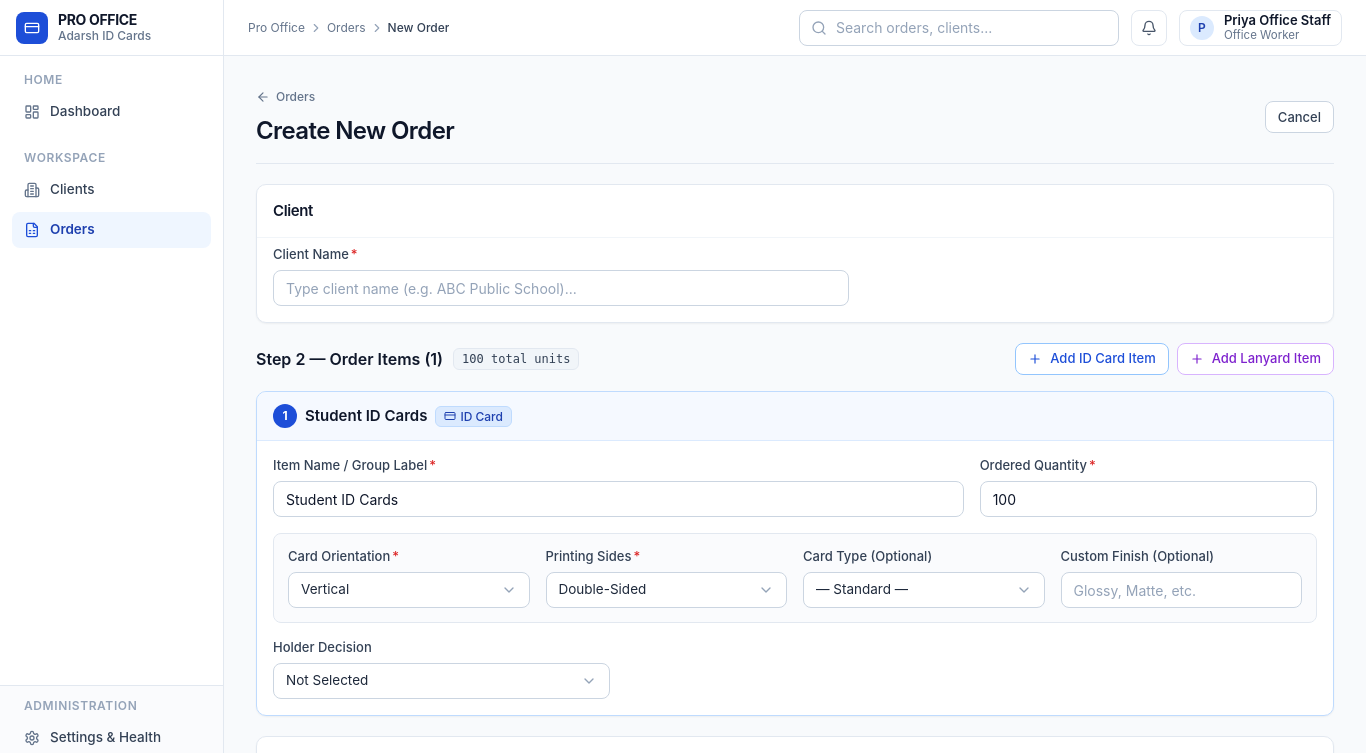
Test: Phase 2 Client & Order Creation and Replacement Workflows › supports inline client creation, multiple ID card & lanyard items, and dynamic form fields
Expected: the heading "Create New Order" is shown, x1=256 y1=115 x2=454 y2=147
Type a new client name and verify inline auto-create option appears
Type "ABC Public School" into the field labelled "Client Name*". click: (561, 288)
box: x1=273 y1=270 x2=849 y2=306
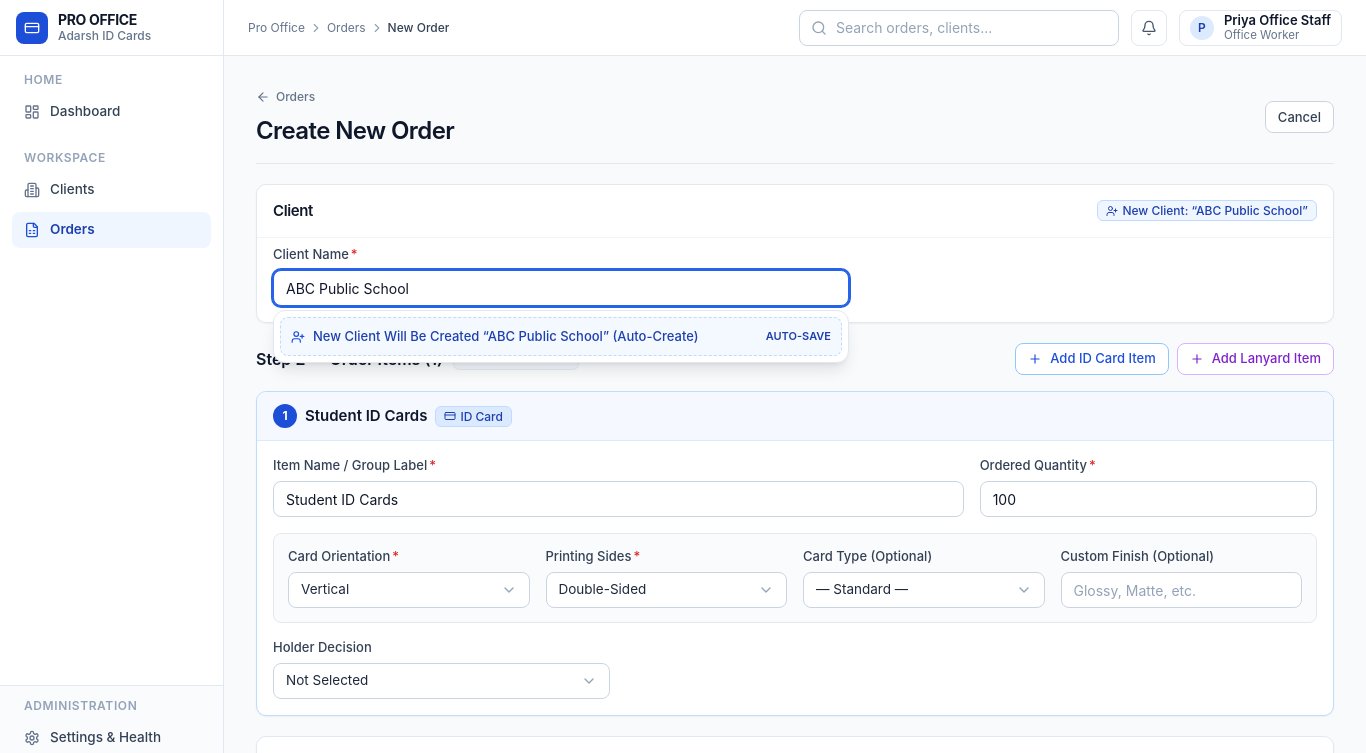
Result: the text "New Client Will Be Created “ABC Public School” (Auto-Create)" is shown at x1=291 y1=326 x2=698 y2=347
Add a second ID card item and a Lanyard item
Click the button with test id "add-card-item-btn". click: click(1092, 359)
box: x1=1015 y1=343 x2=1169 y2=375
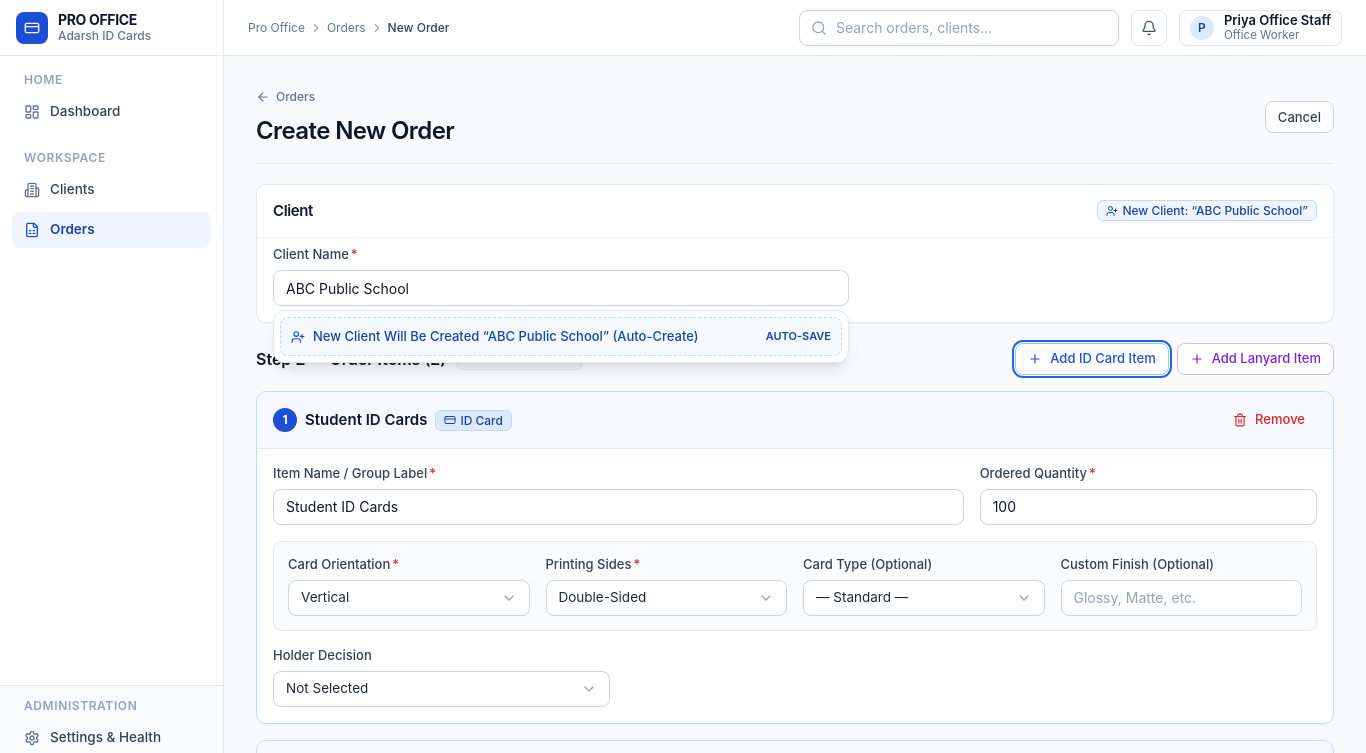
Click the button with test id "add-lanyard-item-btn". click: click(1255, 359)
box: x1=1177 y1=343 x2=1334 y2=375
(page scrolled)
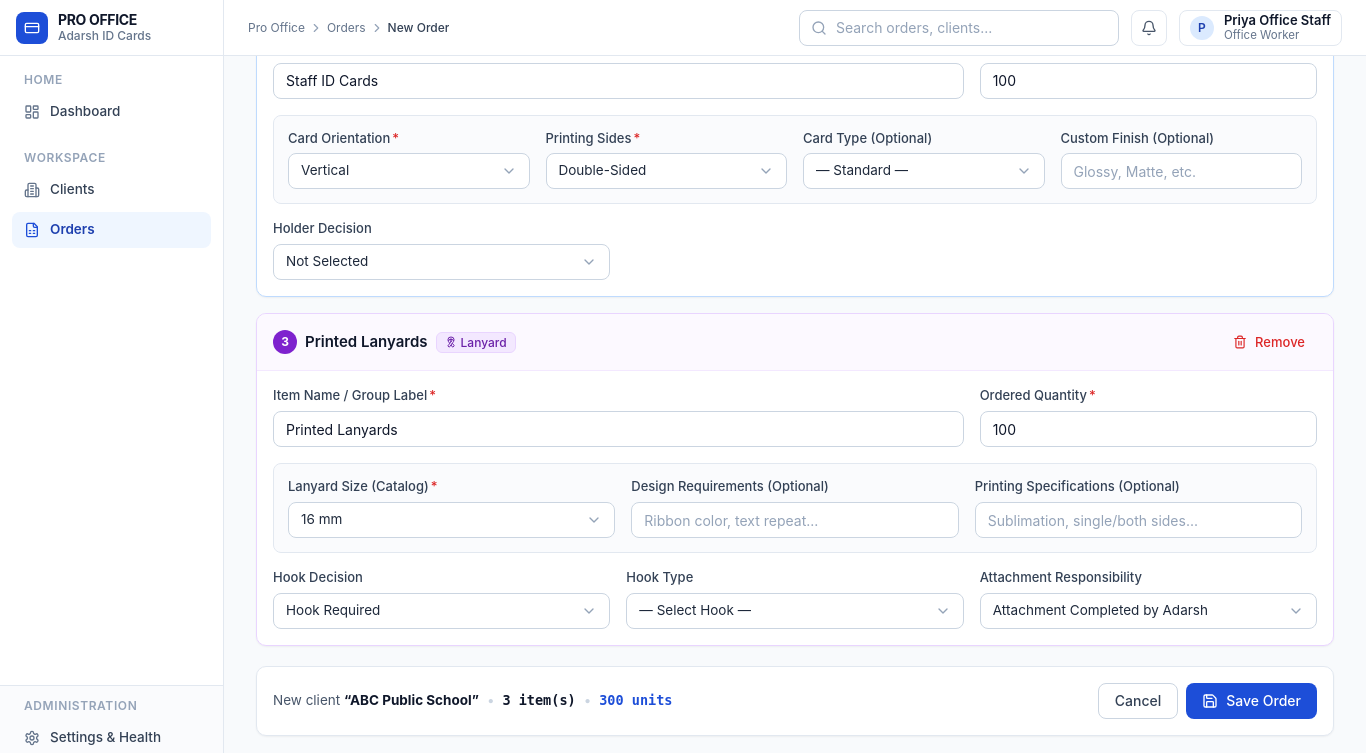
Result: the label labelled "Lanyard Size (Catalog)*" is shown at x1=288 y1=478 x2=438 y2=494
Result: the label labelled "Hook Decision" is shown at x1=273 y1=569 x2=363 y2=585
Result: the label labelled "Attachment Responsibility" is shown at x1=980 y1=569 x2=1142 y2=585
Submit the order
Click the button with test id "submit-create-order-btn". click: click(1252, 701)
box: x1=1186 y1=683 x2=1317 y2=719
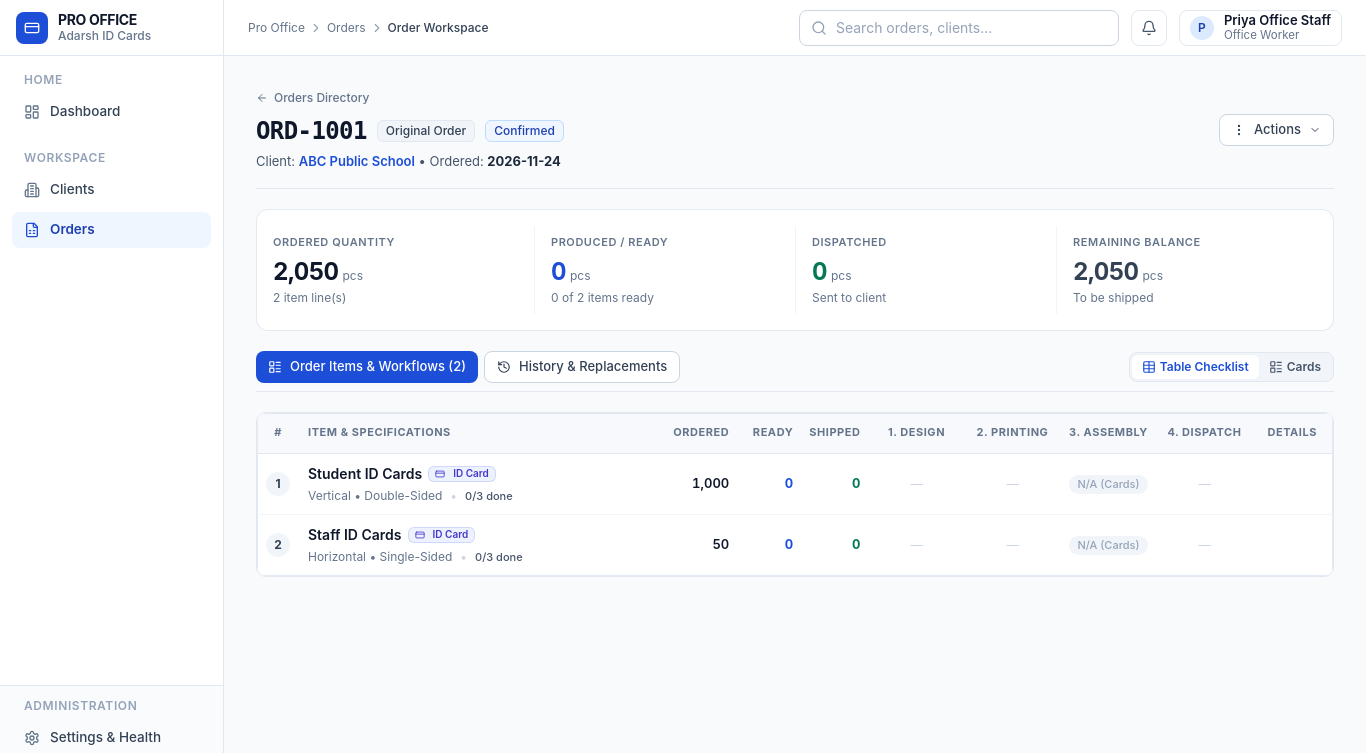
Result: the heading "ORD-1001" is shown at x1=256 y1=115 x2=367 y2=147
